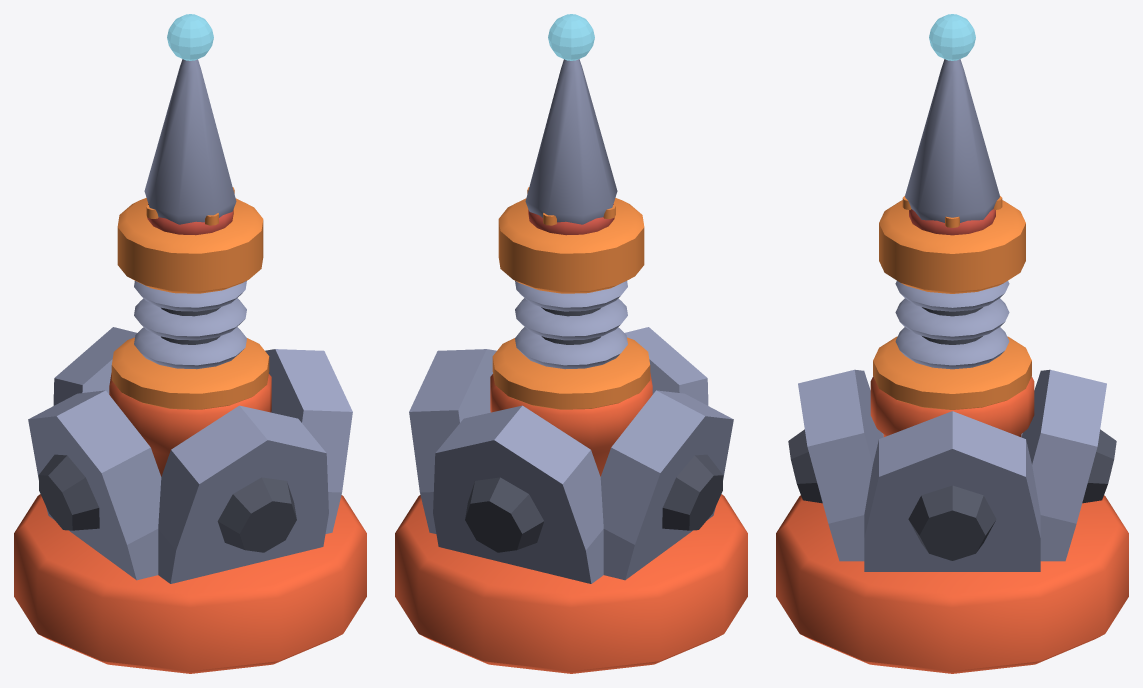
Rendered from tesla.glb.
3 views of the same model, side by side, from view 1: azimuth 30°, elevation 25°; view 2: azimuth 150°, elevation 25°; view 3: azimuth 270°, elevation 25° (orthographic).
Parts seen in each view (by area): view 1: tesla_base, tesla_brace_4, tesla_brace_3, tesla_upper_collar, tesla_spire, tesla_brace_1, tesla_lower_collar, tesla_bolt_4, tesla_column, tesla_bolt_3, tesla_coil_rib_2, tesla_coil_rib_1 (+4 smaller); view 2: tesla_base, tesla_brace_2, tesla_brace_3, tesla_upper_collar, tesla_spire, tesla_brace_1, tesla_lower_collar, tesla_bolt_2, tesla_column, tesla_bolt_3, tesla_coil_rib_2, tesla_coil_rib_1 (+4 smaller); view 3: tesla_base, tesla_brace_1, tesla_brace_2, tesla_brace_4, tesla_spire, tesla_upper_collar, tesla_lower_collar, tesla_bolt_1, tesla_column, tesla_coil_rib_2, tesla_coil_rib_1, tesla_coil_rib_3 (+4 smaller).
Boxes of the visible parts, x1,y1,x2,y2 form: tesla_base: (14,494,366,673); tesla_brace_4: (158,405,328,583); tesla_brace_3: (28,390,161,580); tesla_upper_collar: (117,198,263,293); tesla_spire: (144,59,236,224); tesla_brace_1: (265,349,352,533); tesla_lower_collar: (111,337,269,409); tesla_bolt_4: (217,477,296,552); tesla_column: (109,373,271,476); tesla_bolt_3: (38,454,99,530); tesla_coil_rib_2: (134,298,246,340); tesla_coil_rib_1: (134,327,246,369); tesla_base: (395,494,747,673); tesla_brace_2: (433,405,603,583); tesla_brace_3: (600,390,733,580); tesla_upper_collar: (498,198,644,293); tesla_spire: (525,59,617,224); tesla_brace_1: (409,349,496,533); tesla_lower_collar: (492,337,650,409); tesla_bolt_2: (465,477,544,552); tesla_column: (490,373,652,476); tesla_bolt_3: (662,454,723,530); tesla_coil_rib_2: (515,298,627,340); tesla_coil_rib_1: (515,327,627,369); tesla_base: (776,495,1128,673); tesla_brace_1: (864,411,1040,571); tesla_brace_2: (1021,369,1106,561); tesla_brace_4: (798,369,883,561); tesla_spire: (905,59,999,222); tesla_upper_collar: (879,200,1025,293); tesla_lower_collar: (873,336,1031,409); tesla_bolt_1: (908,485,996,560); tesla_column: (870,376,1034,436); tesla_coil_rib_2: (895,298,1009,340); tesla_coil_rib_1: (895,327,1009,369); tesla_coil_rib_3: (895,281,1009,311).
Bounding box in the file's own units: 0.6 × 1.1 × 0.6.
2 materials, 2 textured.
